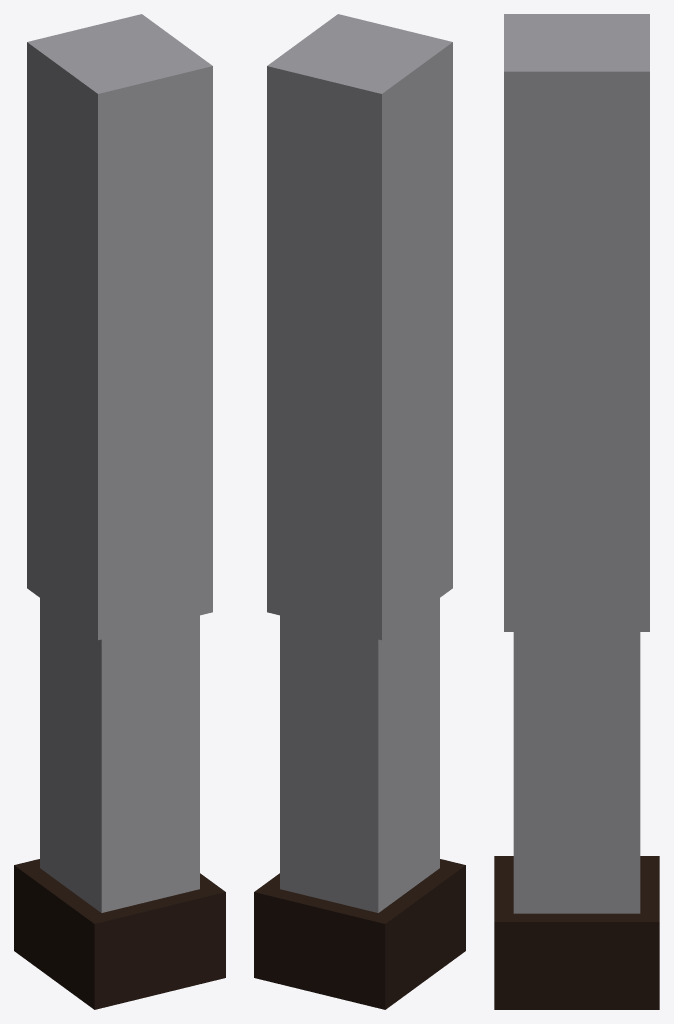
The model's file is carreta_leg_tordillo.obj.
The picture shows the model from 3 angles, left to right: view 1: azimuth 30°, elevation 25°; view 2: azimuth 150°, elevation 25°; view 3: azimuth 270°, elevation 25°; orthographic projection. The views are drawn at different scales.
Visible parts, largest first — view 1: carreta_leg_tordillo; view 2: carreta_leg_tordillo; view 3: carreta_leg_tordillo.
Part boxes in pixels (<box>): carreta_leg_tordillo: <box>14,14,225,1009</box>; carreta_leg_tordillo: <box>254,14,465,1009</box>; carreta_leg_tordillo: <box>494,14,659,1009</box>.
Bounding box in the file's own units: 0.16 × 1.06 × 0.17.
